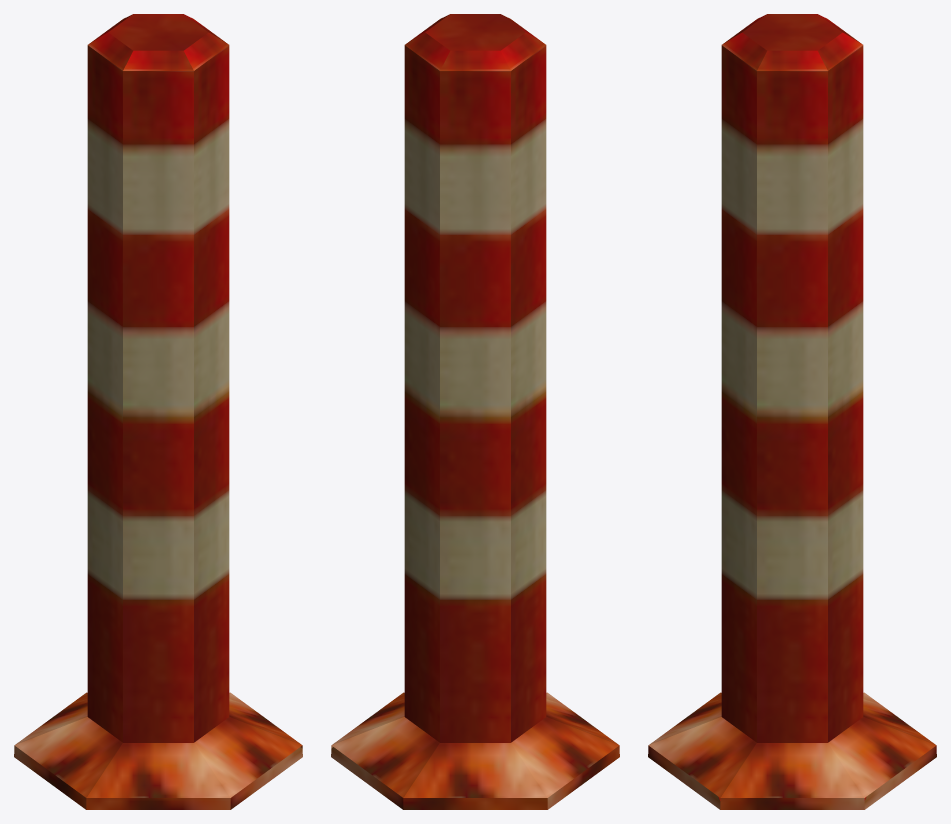
Rendered from simple_bollard_short.fbx.
3 views of the same model, side by side, from view 1: azimuth 30°, elevation 25°; view 2: azimuth 150°, elevation 25°; view 3: azimuth 270°, elevation 25° (orthographic).
Visible parts, largest first — view 1: simple_bollard_short; view 2: simple_bollard_short; view 3: simple_bollard_short.
Boxes of the visible parts, x1=… form: simple_bollard_short: x1=14, y1=14, x2=302, y2=809; simple_bollard_short: x1=331, y1=14, x2=619, y2=809; simple_bollard_short: x1=648, y1=14, x2=936, y2=809.
Bounding box in the file's own units: 23.26 × 74.35 × 26.85.
Materials: 1 (1 with a texture image).
